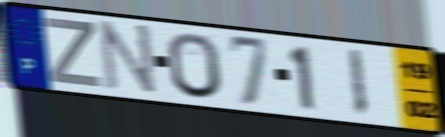1: (287, 43, 317, 112)
7: (226, 32, 271, 110)
I: (345, 47, 371, 120)
N: (99, 19, 159, 99)
O: (165, 31, 225, 102)
Z: (42, 15, 104, 90)
